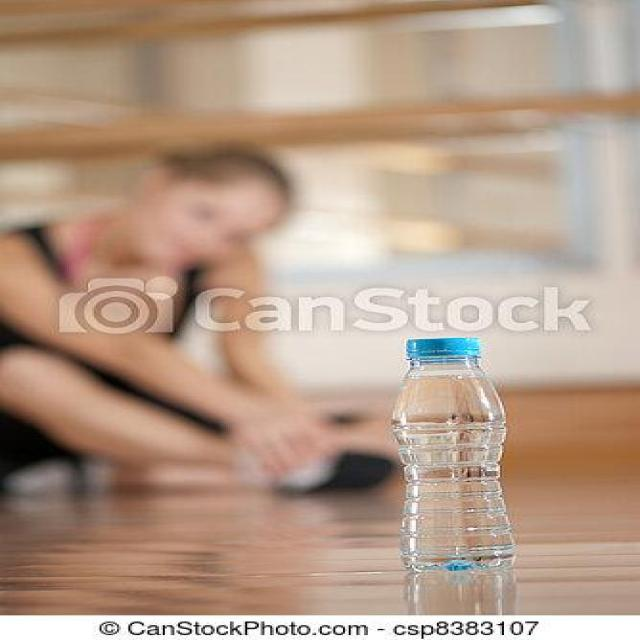bottle: (374, 328, 532, 582)
